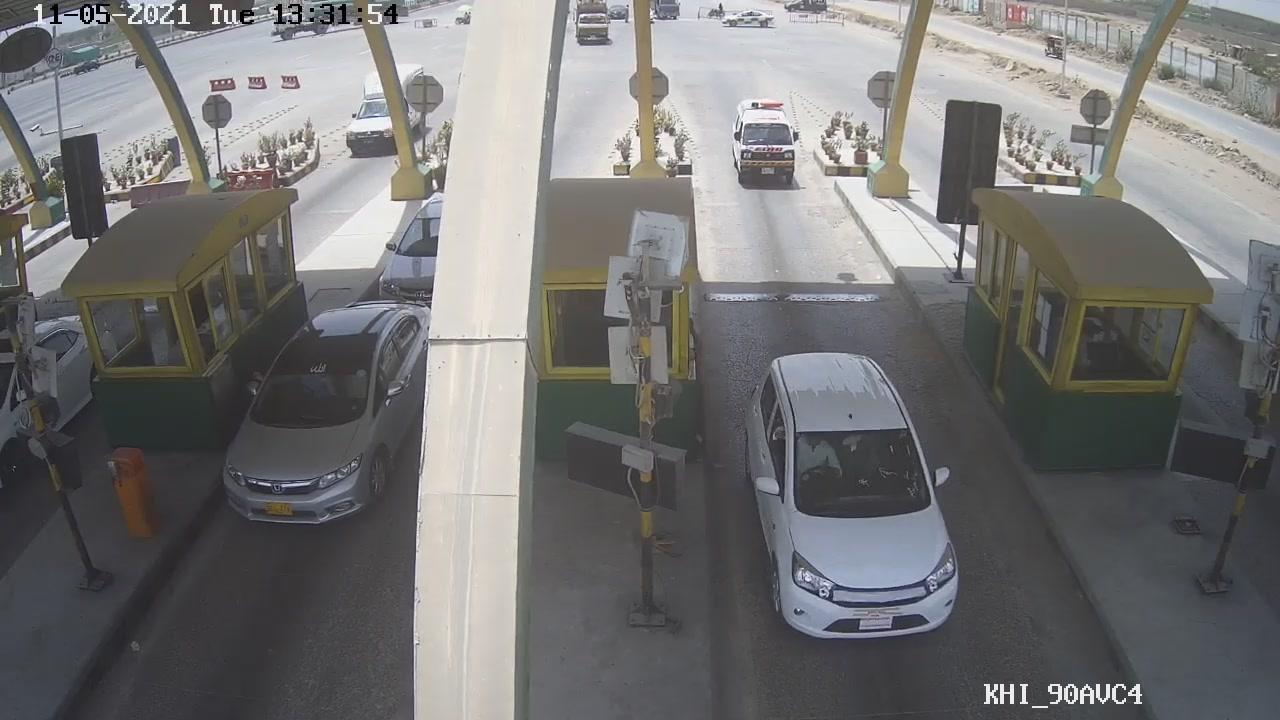F1: (738, 350, 968, 646)
